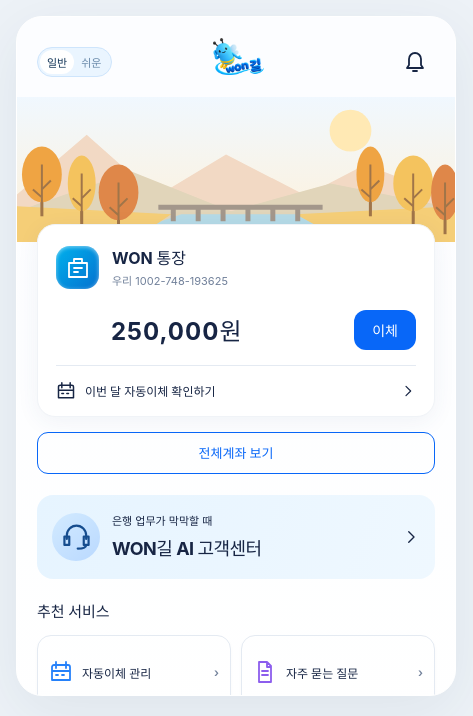
Test: 앱 시연 흐름 › 분석 중 오류가 나면 입력을 보존한 문의 화면으로 돌아간다
Click the button "은행 업무가 막막할 때 WON길 AI 고객센터" at (236, 537), box [37,495,435,579]
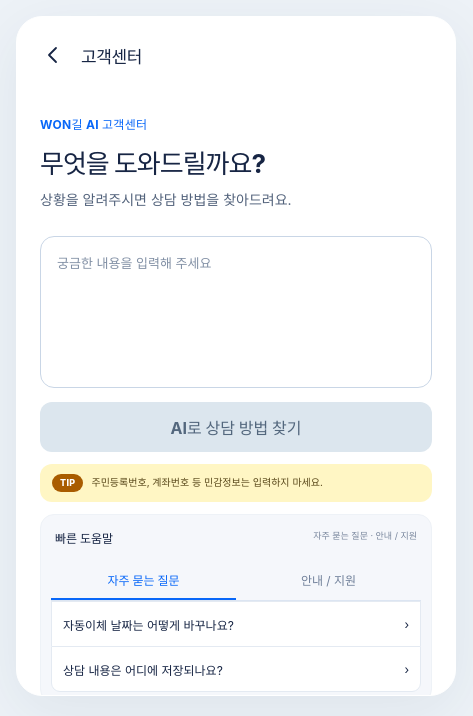
Type "보존할 문의" into the text box at (236, 312), box [40,236,432,388]
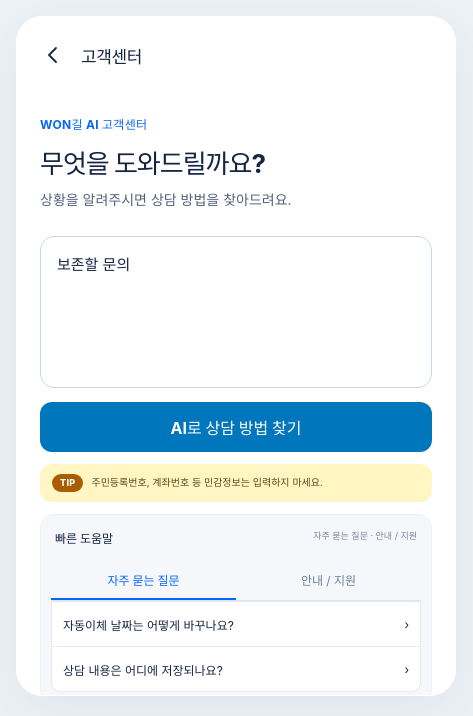
Click the button with aria-label "메시지 전송" at (236, 427), box [40,402,432,452]
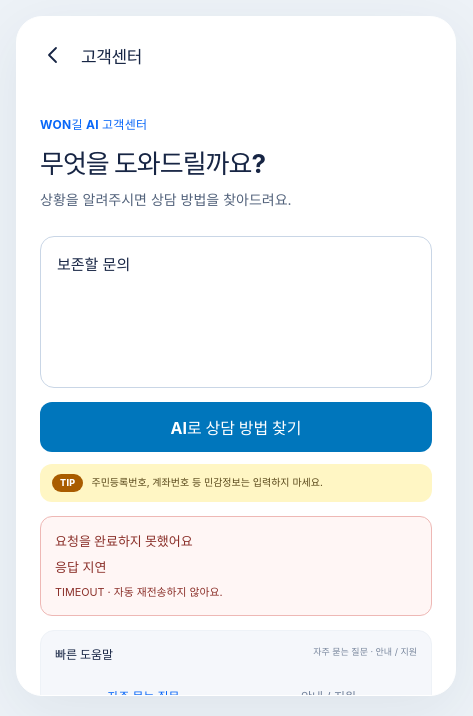
Check: the text box holds "보존할 문의", box [40,236,432,388]
Check: the message shows "응답 지연", box [55,559,106,575]
